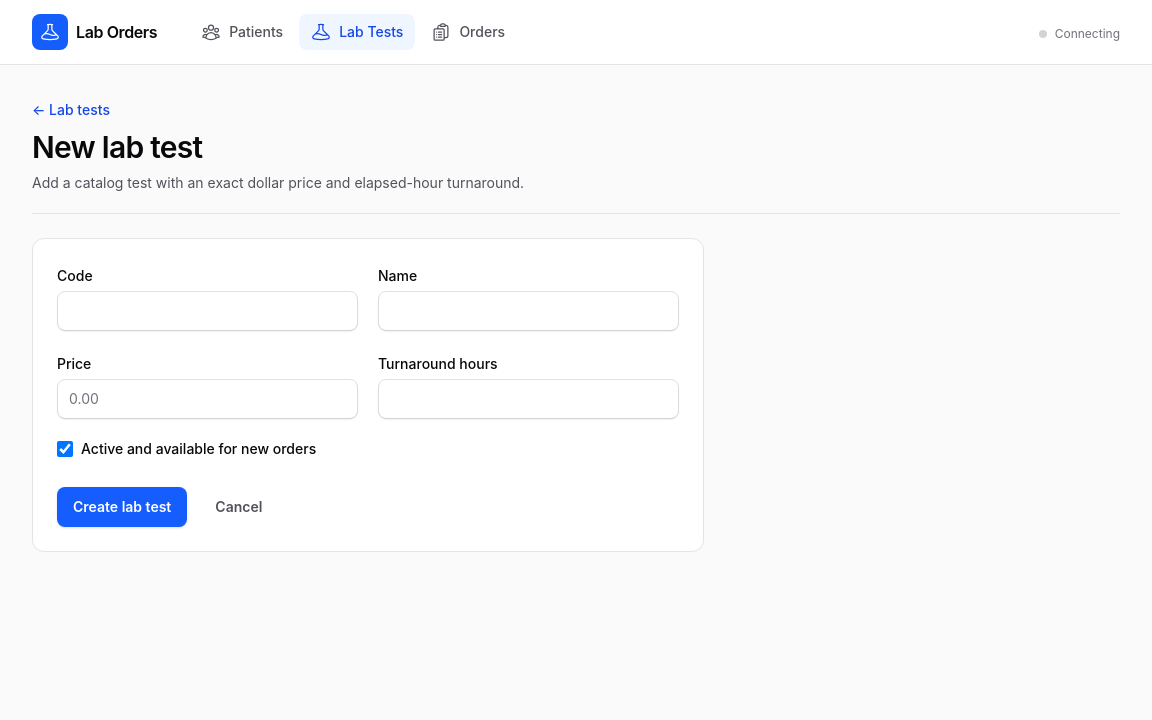
Test: surfaces a duplicate-code conflict without losing form input
The image size is (1152, 720).
Type "CBC" into the field labelled "Code". click: [208, 311]
box: [57,291,358,331]
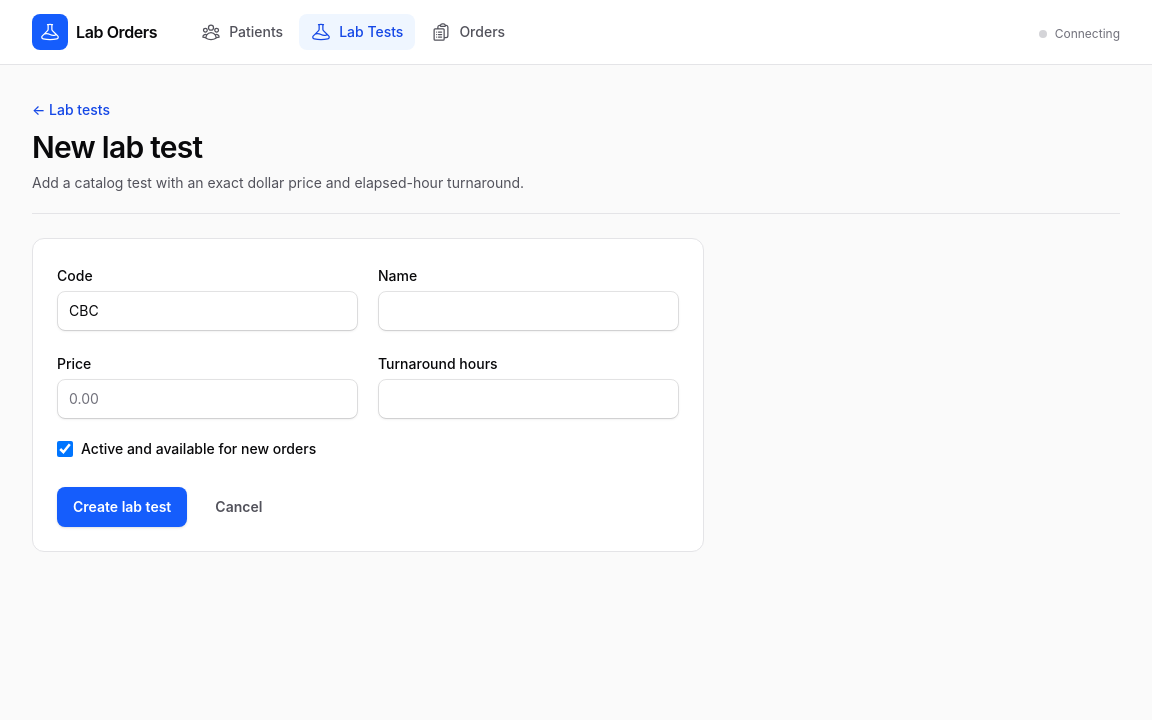
Type "Complete Blood Count" into the field labelled "Name". click: [528, 311]
box: [378,291,679,331]
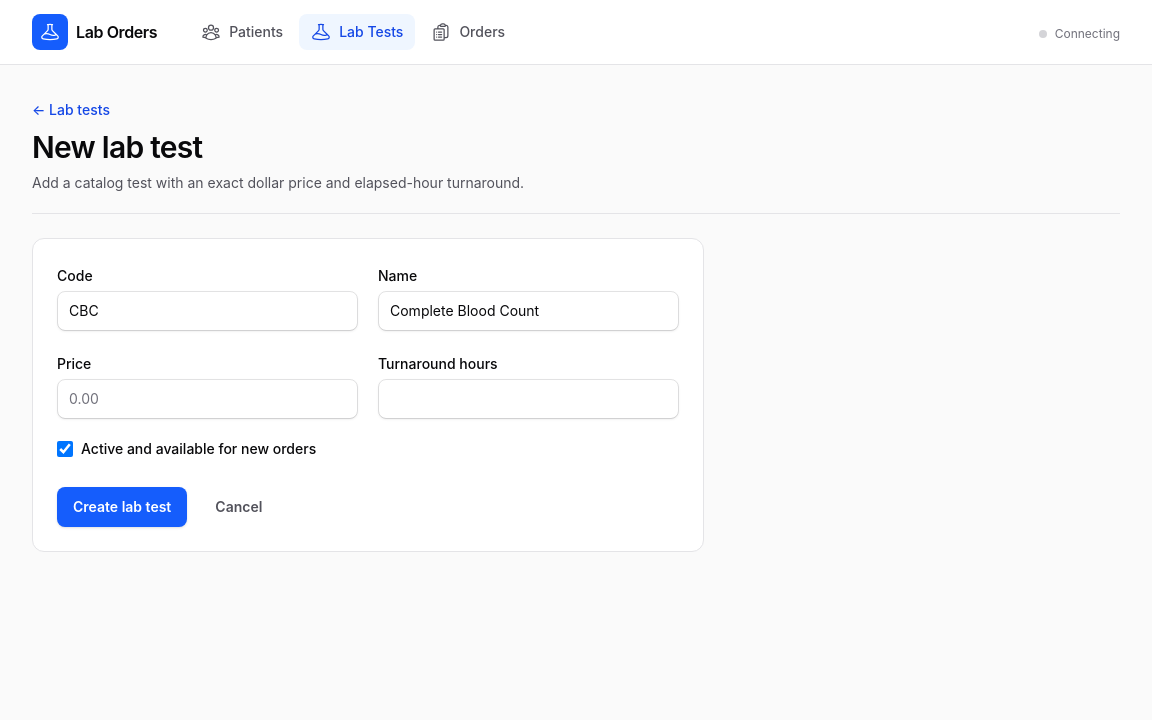
Type "30" into the field labelled "Price". click: [208, 399]
box: [57,379,358,419]
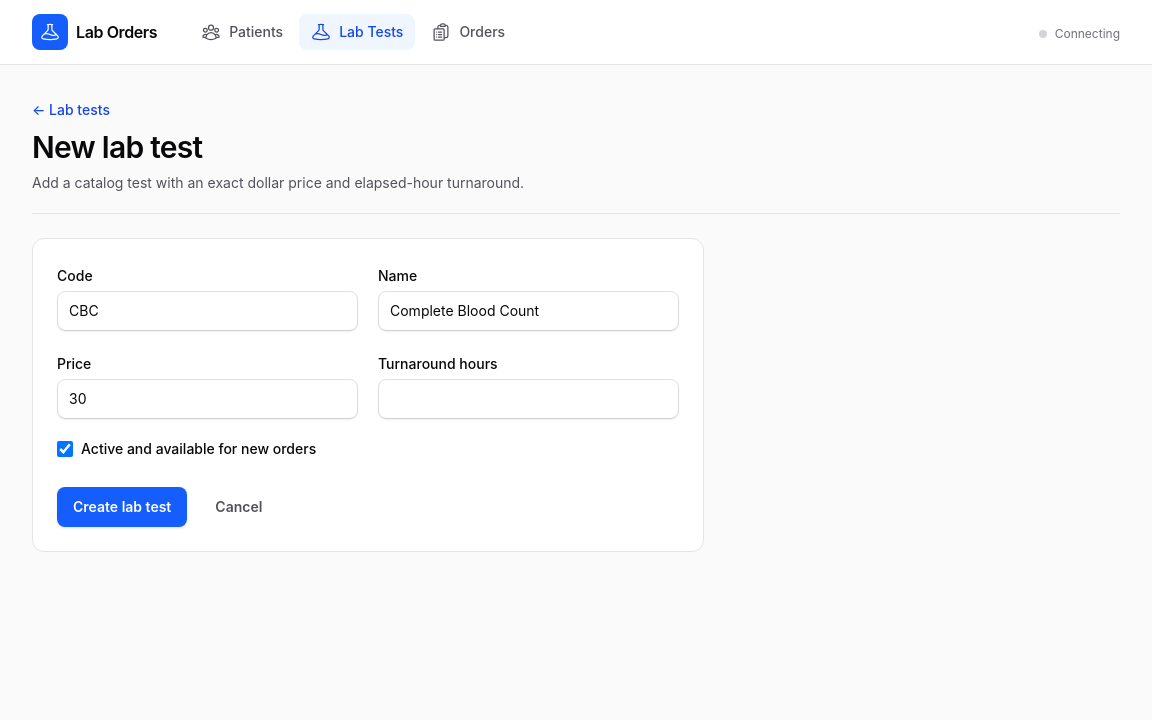
Type "12" into the field labelled "Turnaround hours". click: [528, 399]
box: [378,379,679,419]
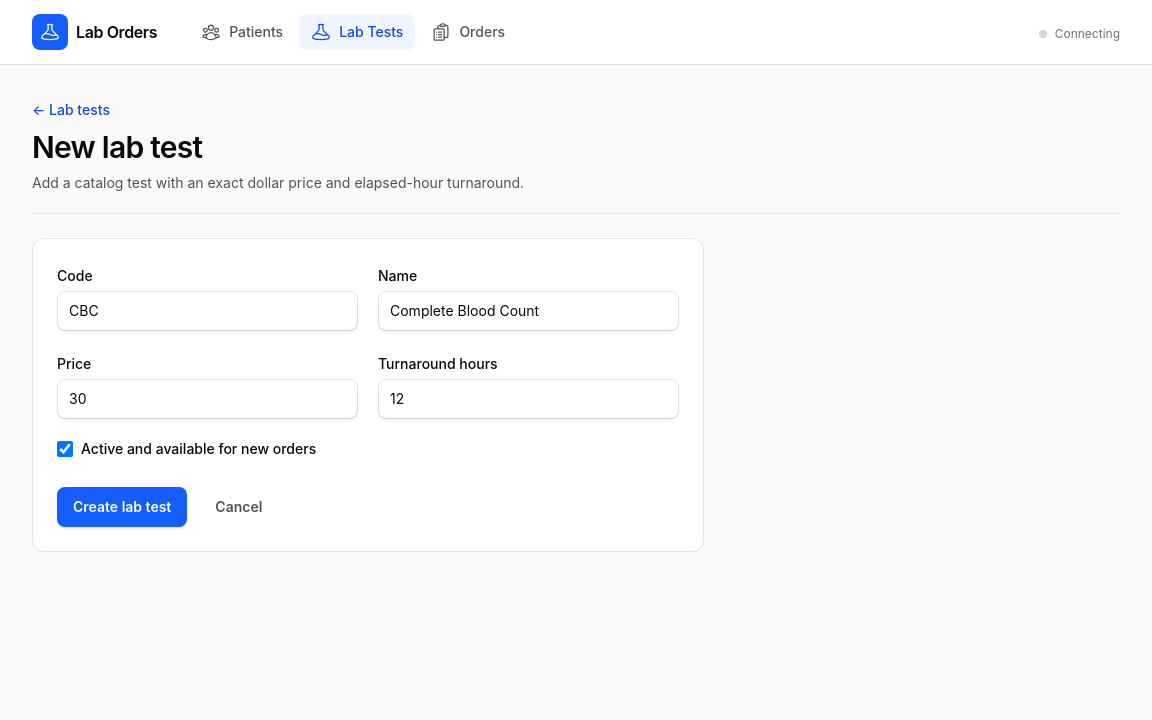
Click the button "Create lab test". click: [122, 507]
box: [57,487,187,527]
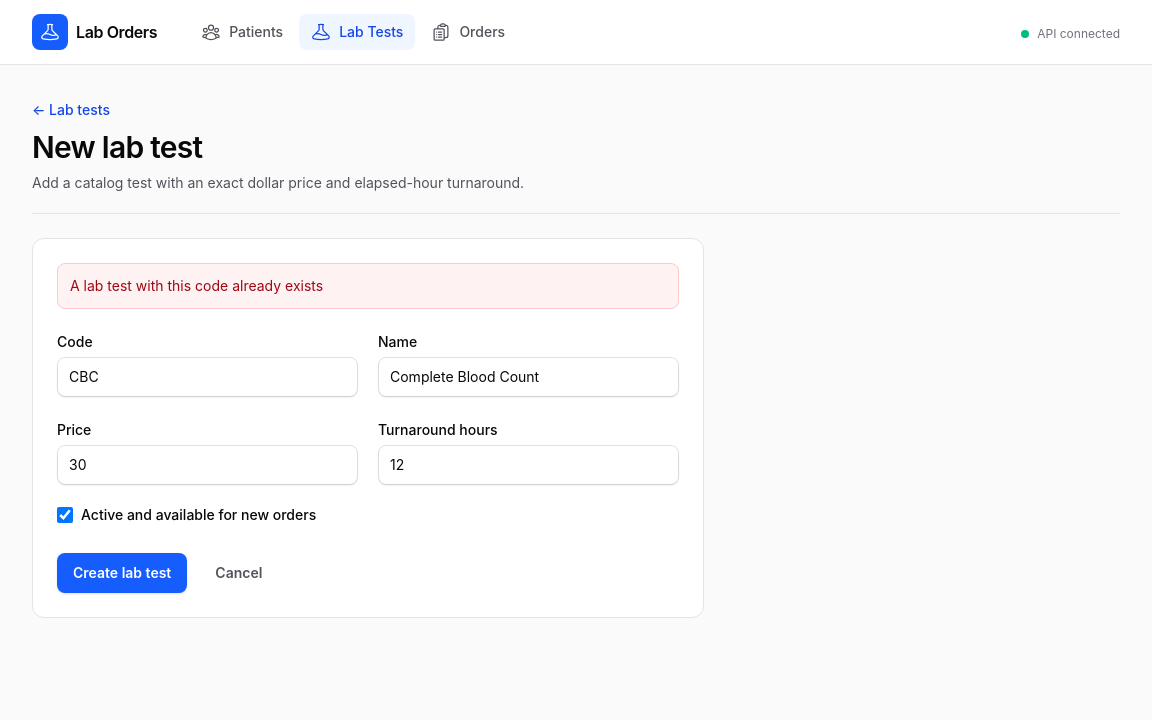
Now the text "A lab test with this code already exists" is shown, box [57,263,679,309]
